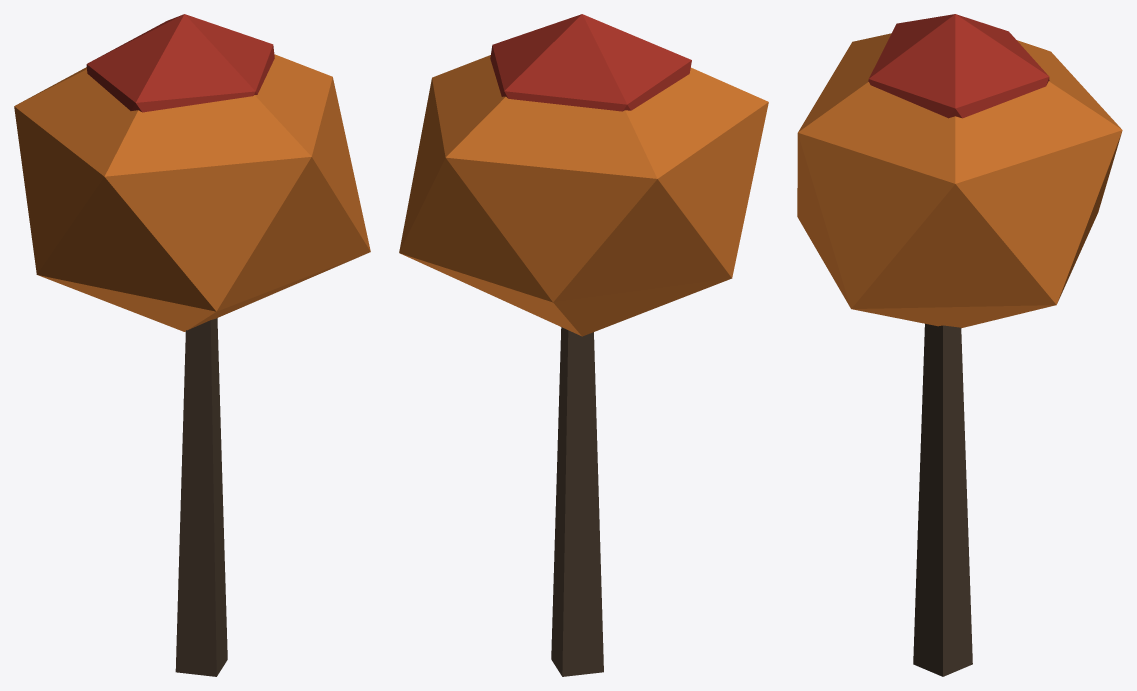
The model's file is tree_autumn_lod2.glb.
The picture shows the model from 3 angles, left to right: view 1: azimuth 30°, elevation 25°; view 2: azimuth 150°, elevation 25°; view 3: azimuth 270°, elevation 25°; orthographic projection. The views are drawn at different scales.
Visible parts, largest first — view 1: tree_autumn_lod2; view 2: tree_autumn_lod2; view 3: tree_autumn_lod2.
Boxes of the visible parts, left/top/right/bottom form: tree_autumn_lod2: left=14, top=14, right=370, bottom=676; tree_autumn_lod2: left=399, top=14, right=768, bottom=676; tree_autumn_lod2: left=797, top=14, right=1122, bottom=676.
Size of what is drawn, in the model's own units: 2.73 by 5.73 by 2.62.
Materials: 2 (2 with a texture image).
